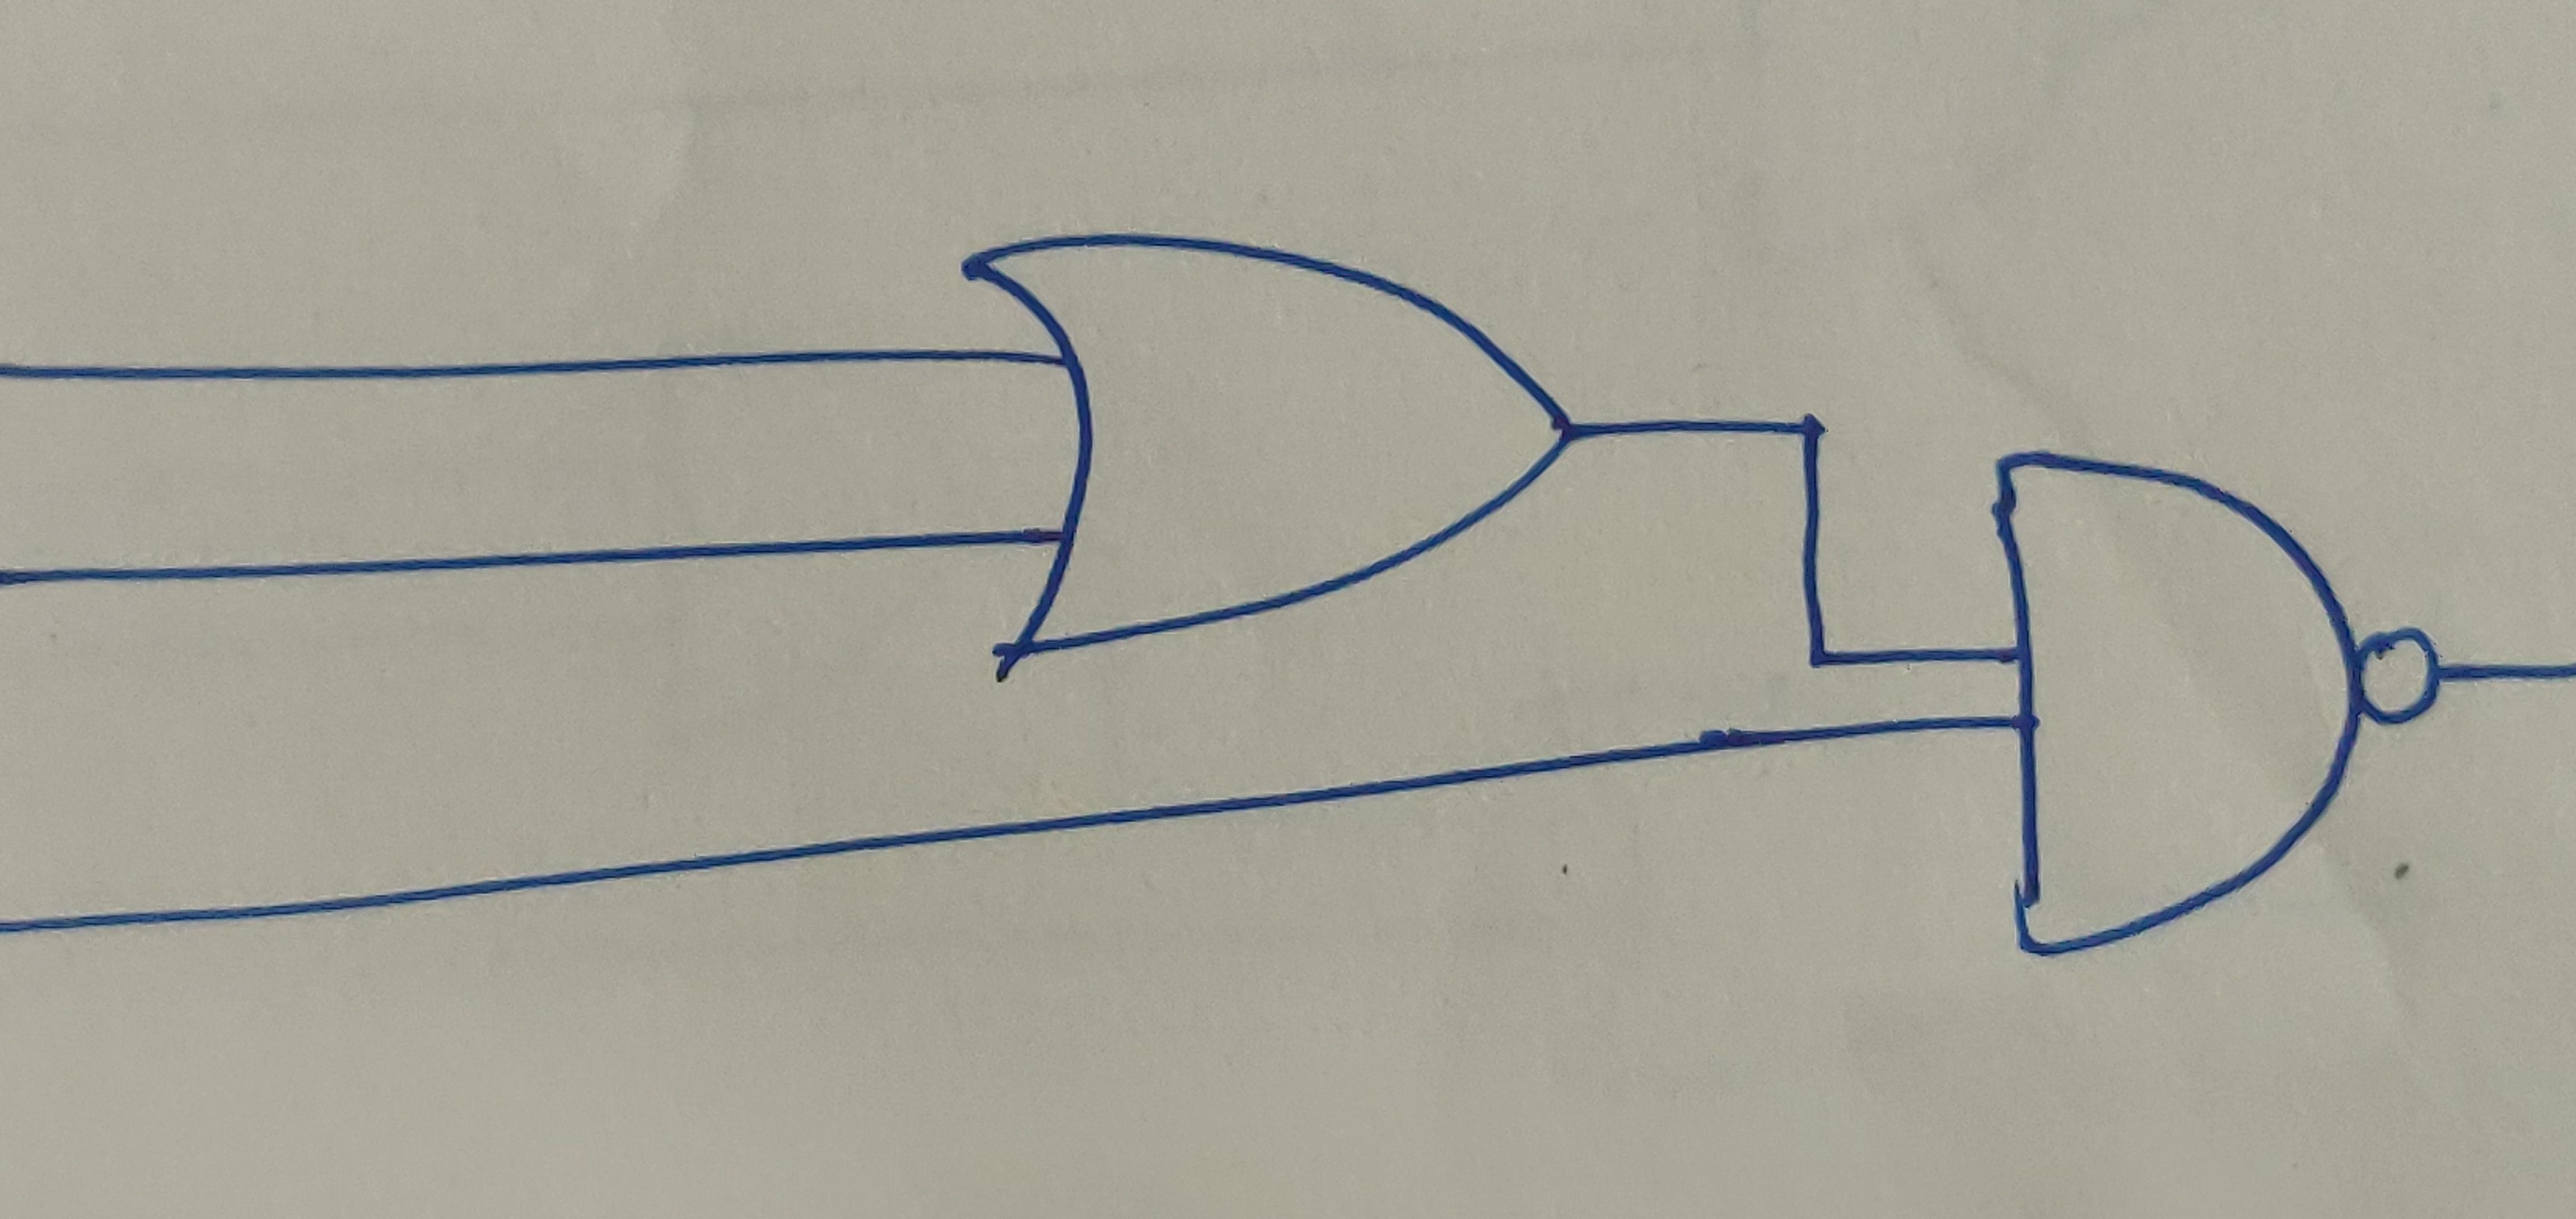and: (1993, 447, 2361, 961)
not: (2357, 626, 2448, 731)
or: (958, 233, 1584, 665)
